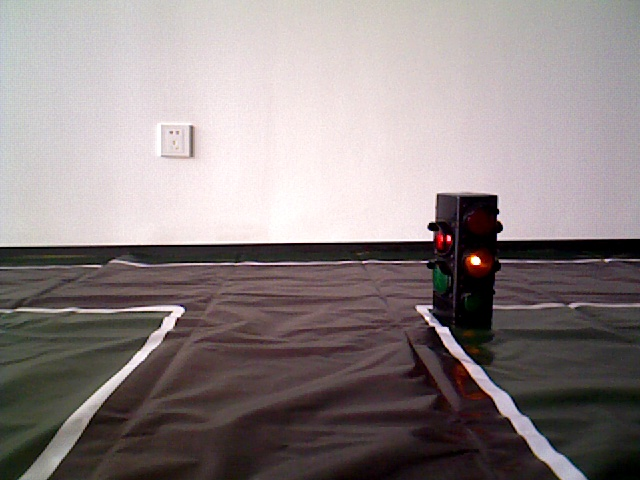yellow: (432, 191, 495, 322)
